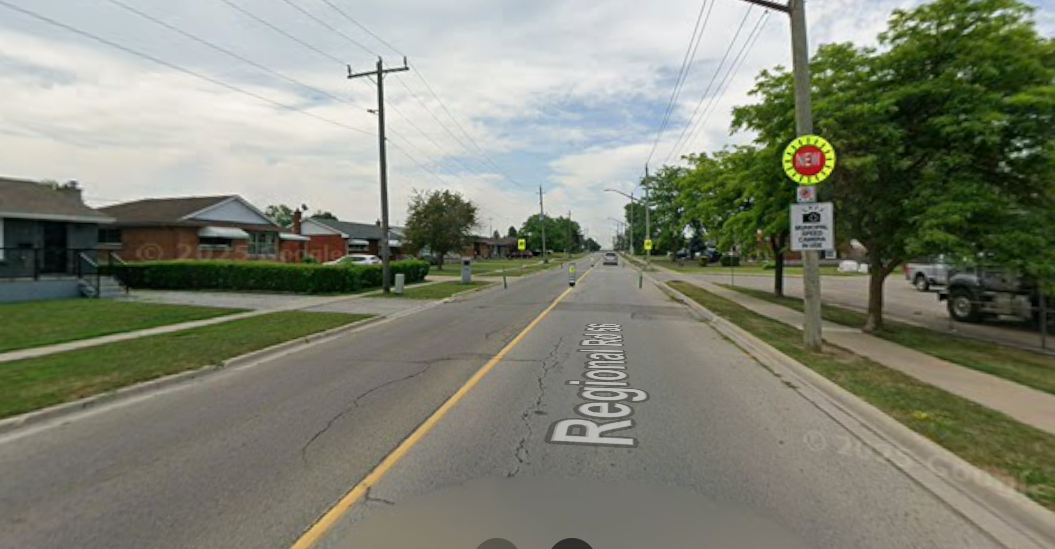cracks: (296, 362, 441, 462), (492, 338, 573, 481)
